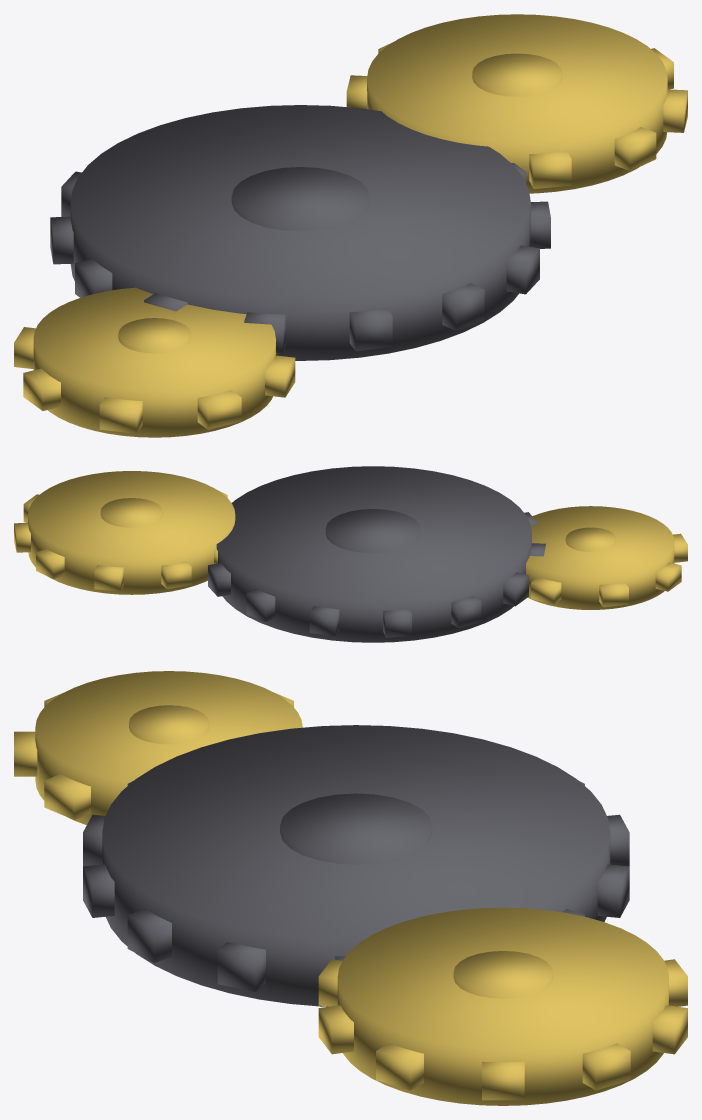
Rendered from gears.glb.
3 views of the same model, one above another, from view 1: azimuth 30°, elevation 25°; view 2: azimuth 150°, elevation 25°; view 3: azimuth 270°, elevation 25° (orthographic). The views are drawn at different scales.
Visible parts, largest first — view 1: Cylinder, Cylinder.002, Cylinder.004, Cylinder.001, Cylinder.003, Cylinder.005, Cube.010, Cube.011, Cube.021, Cube.022, Cube.030, Cube.029 (+10 smaller); view 2: Cylinder, Cylinder.002, Cylinder.004, Cylinder.001, Cylinder.003, Cylinder.005, Cube.004, Cube.006, Cube.003, Cube.005, Cube.018, Cube.007 (+8 smaller); view 3: Cylinder, Cylinder.002, Cylinder.004, Cylinder.001, Cylinder.003, Cylinder.005, Cube.013, Cube.012, Cube.015, Cube.023, Cube.014, Cube.031 (+9 smaller).
Boxes of the visible parts, x1=… form: Cylinder: x1=70, y1=105, x2=530, y2=360; Cylinder.002: x1=367, y1=14, x2=667, y2=193; Cylinder.004: x1=33, y1=287, x2=275, y2=437; Cylinder.001: x1=231, y1=167, x2=369, y2=231; Cylinder.003: x1=472, y1=53, x2=562, y2=96; Cylinder.005: x1=118, y1=318, x2=190, y2=353; Cube.010: x1=349, y1=307, x2=392, y2=351; Cube.011: x1=442, y1=283, x2=484, y2=330; Cube.021: x1=529, y1=150, x2=571, y2=188; Cube.022: x1=614, y1=127, x2=656, y2=171; Cube.030: x1=197, y1=390, x2=241, y2=429; Cube.029: x1=99, y1=397, x2=142, y2=433; Cylinder: x1=216, y1=466, x2=531, y2=642; Cylinder.002: x1=28, y1=471, x2=235, y2=594; Cylinder.004: x1=526, y1=506, x2=674, y2=609; Cylinder.001: x1=325, y1=509, x2=420, y2=553; Cylinder.003: x1=100, y1=498, x2=162, y2=527; Cylinder.005: x1=565, y1=527, x2=615, y2=551; Cube.004: x1=309, y1=606, x2=339, y2=636; Cube.006: x1=451, y1=596, x2=481, y2=628; Cube.003: x1=246, y1=589, x2=275, y2=621; Cube.005: x1=383, y1=609, x2=411, y2=637; Cube.018: x1=161, y1=561, x2=191, y2=589; Cube.007: x1=503, y1=572, x2=528, y2=606; Cylinder: x1=102, y1=725, x2=610, y2=1006; Cylinder.002: x1=337, y1=907, x2=668, y2=1105; Cylinder.004: x1=35, y1=671, x2=302, y2=825; Cylinder.001: x1=280, y1=793, x2=432, y2=864; Cylinder.003: x1=453, y1=951, x2=552, y2=998; Cylinder.005: x1=129, y1=705, x2=209, y2=744; Cube.013: x1=217, y1=942, x2=265, y2=991; Cube.012: x1=127, y1=909, x2=171, y2=962; Cube.015: x1=582, y1=1043, x2=630, y2=1090; Cube.023: x1=376, y1=1043, x2=423, y2=1090; Cube.014: x1=482, y1=1061, x2=524, y2=1100; Cube.031: x1=44, y1=774, x2=90, y2=819.
Size of the model in its own units: 3.73 by 0.376 by 2.52.
